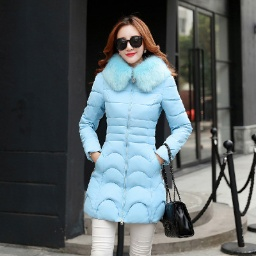face: (104, 14, 164, 75)
